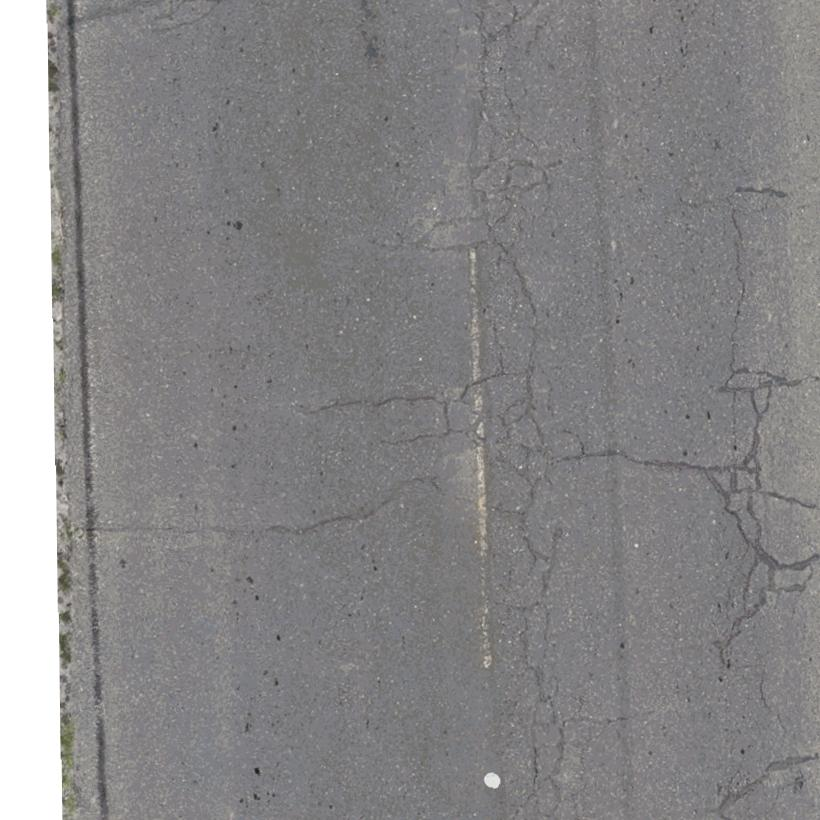GRIETA: (86, 478, 413, 536), (717, 753, 819, 816), (589, 449, 704, 471), (309, 395, 442, 414), (75, 0, 166, 27), (730, 208, 746, 360), (153, 0, 222, 34), (759, 667, 787, 740), (583, 712, 638, 748)
PIEL DE COCODRILO: (362, 0, 593, 819), (702, 357, 819, 682)
